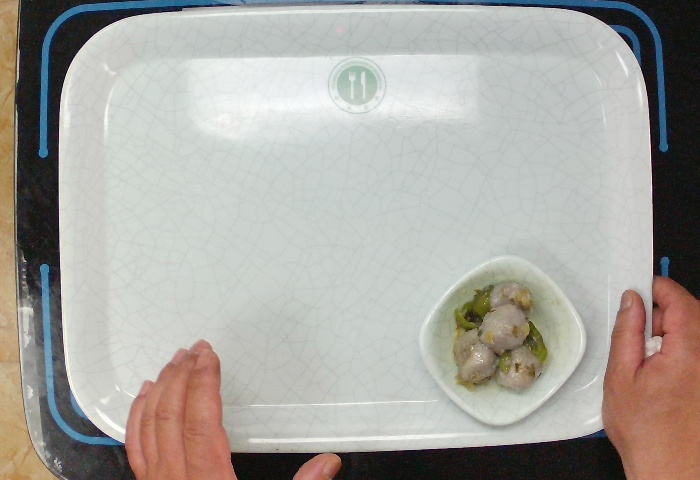JYsf-Si_Fang_Die: (415, 248, 596, 432)
